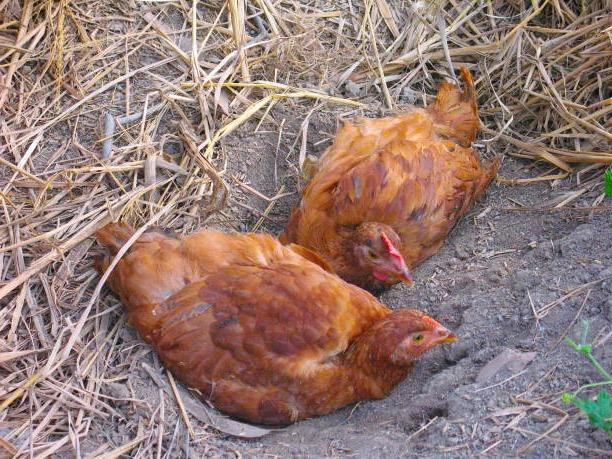AbNormal: (103, 213, 462, 419)
